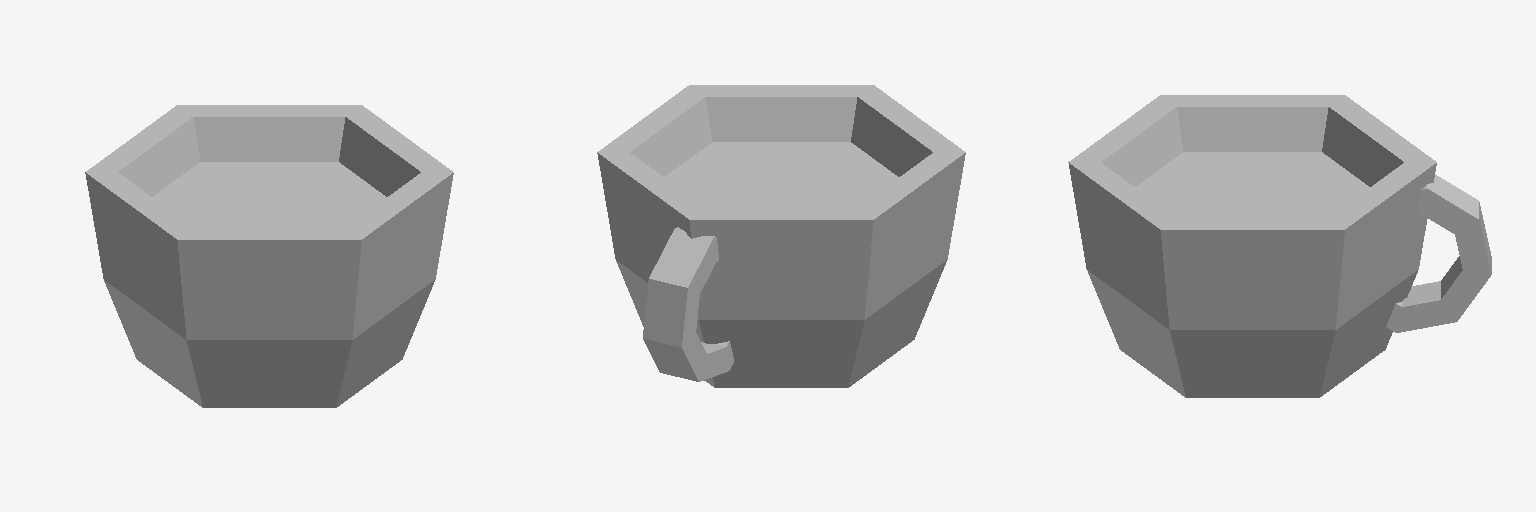
Rendered from cup-coffee.obj.
3 views of the same model, side by side, from view 1: azimuth 30°, elevation 25°; view 2: azimuth 150°, elevation 25°; view 3: azimuth 270°, elevation 25° (orthographic).
Visible parts, largest first — view 1: cup-coffee; view 2: cup-coffee; view 3: cup-coffee.
Boxes of the visible parts, <box> form: cup-coffee: <box>85,105,453,407</box>; cup-coffee: <box>597,85,965,387</box>; cup-coffee: <box>1068,95,1491,397</box>.
Bounding box in the file's own units: 0.2163 × 0.14 × 0.2866.